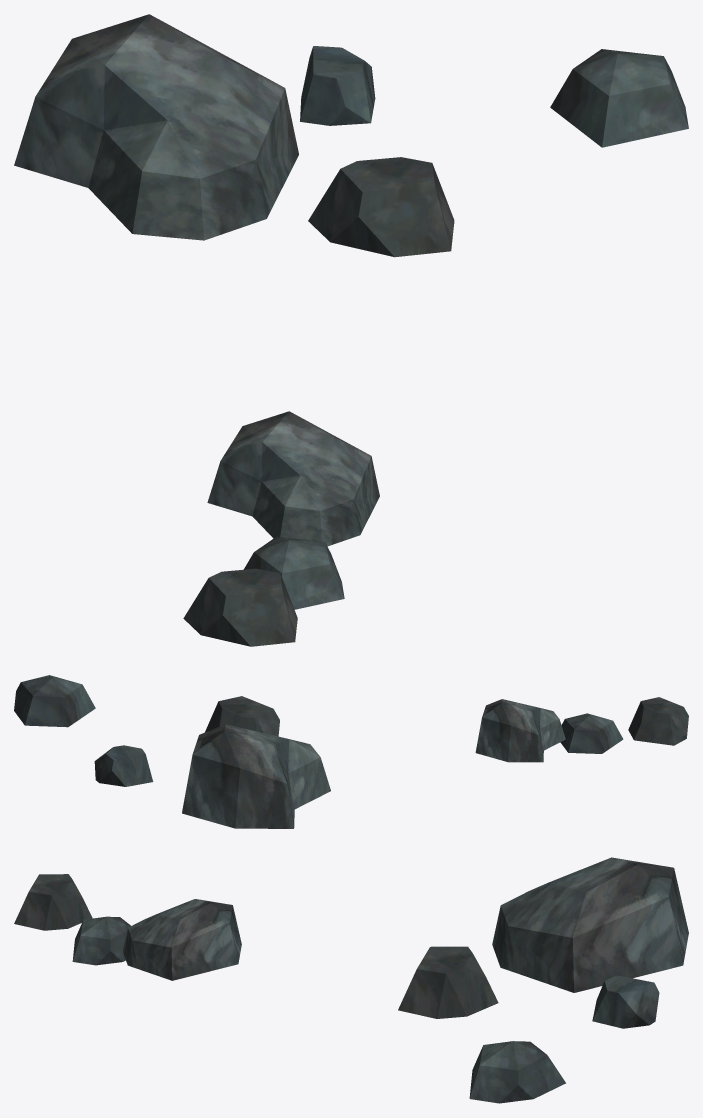
The model's file is object_rubble32.fbx.
3 renders of one model, top to bottom at view 1: azimuth 30°, elevation 25°; view 2: azimuth 150°, elevation 25°; view 3: azimuth 270°, elevation 25°, orthographic. The views are drawn at different scales.
Parts seen in each view (by area): view 1: obj0.105; view 2: obj0.105; view 3: obj0.105.
Boxes of the visible parts, bbox=[...] form: obj0.105: bbox=[14, 14, 688, 646]; obj0.105: bbox=[14, 675, 688, 828]; obj0.105: bbox=[14, 857, 688, 1103].
Size of the model in its own units: 4.57 by 1.31 by 4.74.
